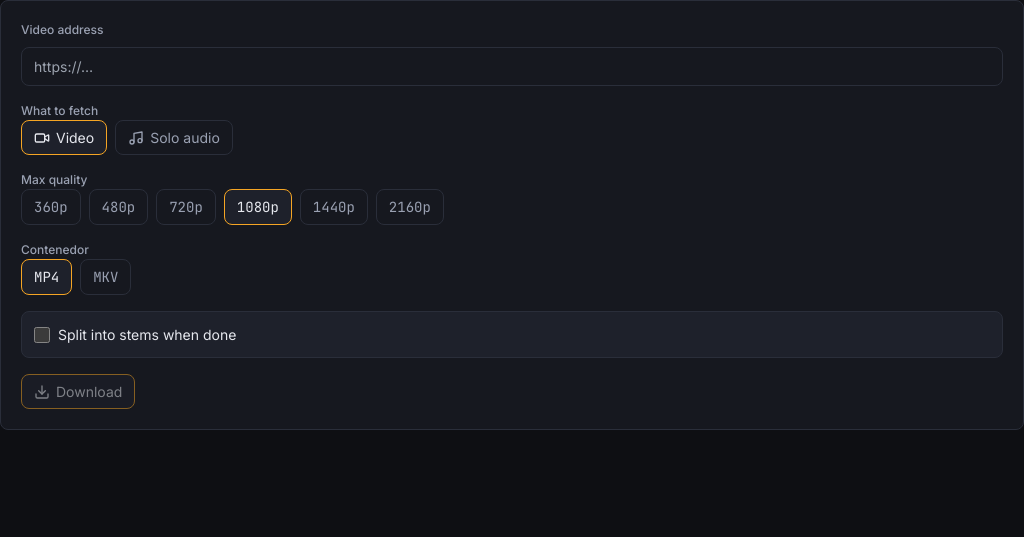
Test case: DownloadPage › no ofrece calidades que el video no tiene
In the field labelled "Video address": coordinates (512, 66) [21, 47, 1003, 86], type "https://youtube.com/watch?v=x"
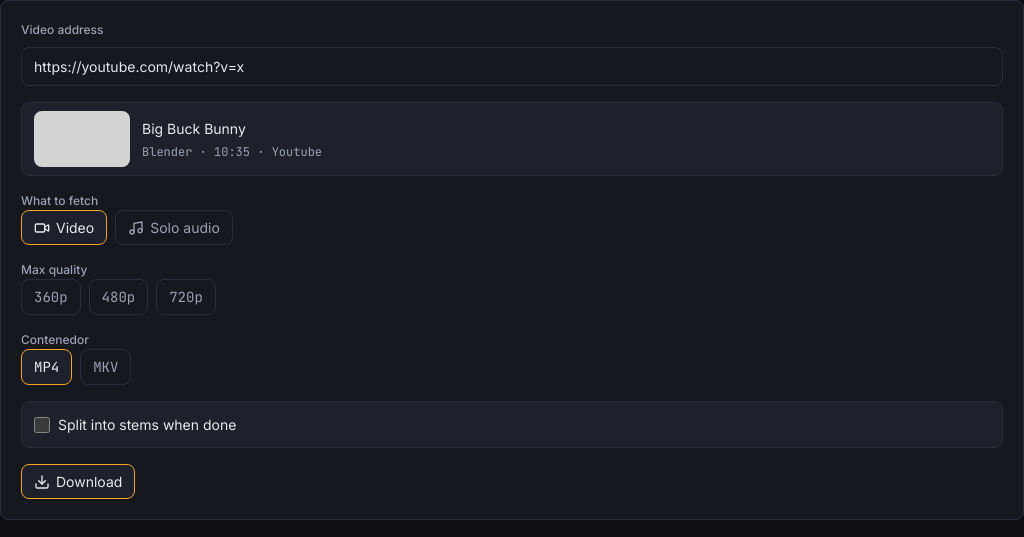
Expected: the text "720p" is shown, [169, 288, 203, 306]
Expected: the text "Big Buck Bunny" is shown, [142, 120, 246, 136]
Expected: the text "2160p" is gone
